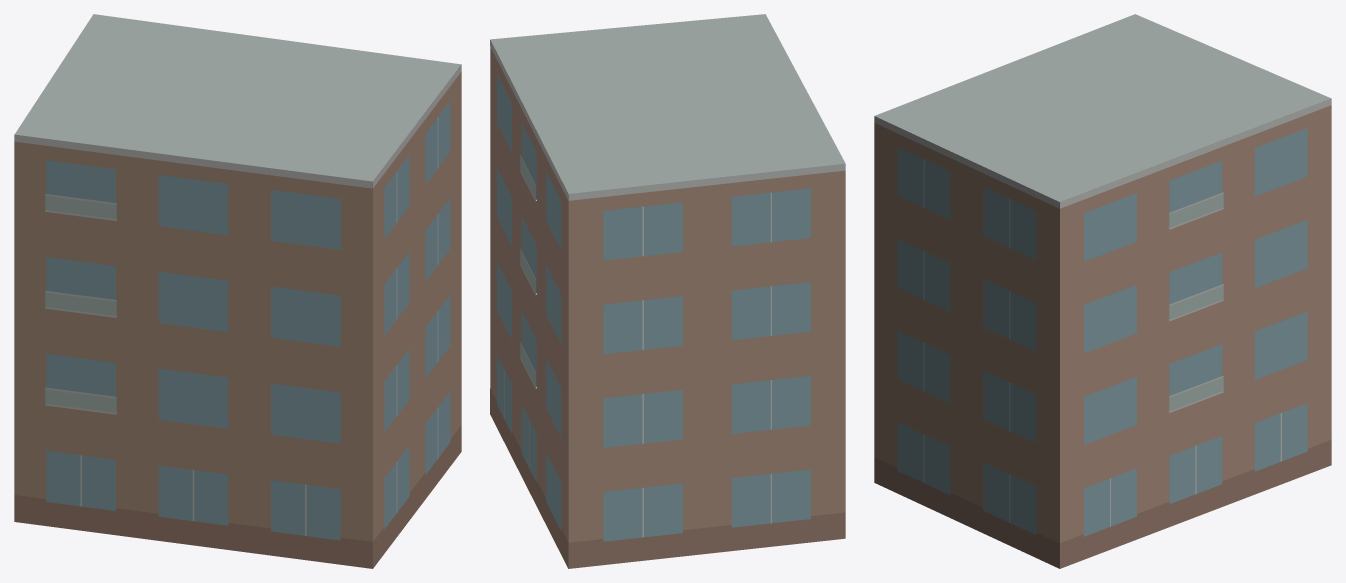
File: survey-upis-33024668.glb
The picture shows the model from 3 angles, left to right: view 1: azimuth 30°, elevation 25°; view 2: azimuth 150°, elevation 25°; view 3: azimuth 270°, elevation 25°; orthographic projection. The views are drawn at different scales.
Visible parts, largest first — view 1: survey-upis-33024668.tmp; view 2: survey-upis-33024668.tmp; view 3: survey-upis-33024668.tmp.
Boxes of the visible parts, x1=… form: survey-upis-33024668.tmp: x1=14, y1=14, x2=461, y2=568; survey-upis-33024668.tmp: x1=490, y1=14, x2=845, y2=568; survey-upis-33024668.tmp: x1=874, y1=14, x2=1331, y2=568.
Bounding box in the file's own units: 14.75 × 13.4 × 15.15.
